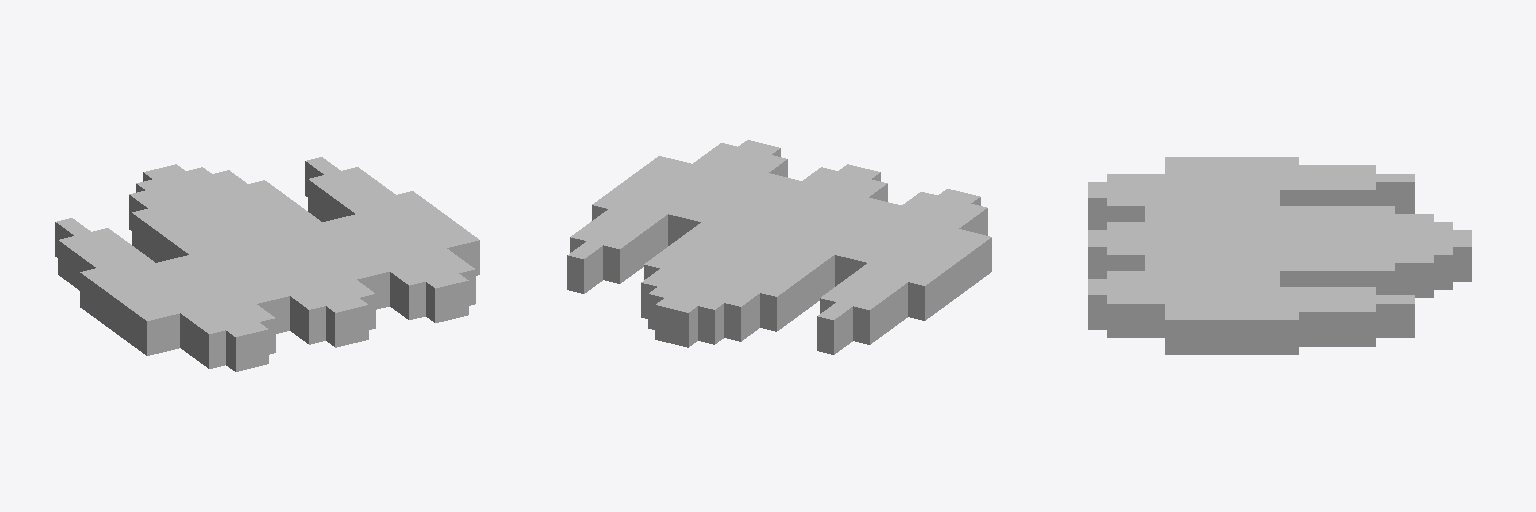
The model's file is enemy_1.obj.
The picture shows the model from 3 angles: view 1: azimuth 30°, elevation 25°; view 2: azimuth 150°, elevation 25°; view 3: azimuth 270°, elevation 25°; orthographic projection.
Visible parts, largest first — view 1: object 1; view 2: object 1; view 3: object 1.
Boxes of the visible parts, <box> form: object 1: <box>55,157,479,371</box>; object 1: <box>567,140,991,354</box>; object 1: <box>1088,157,1471,354</box>.
Size of the model in its own units: 2 by 0.2 by 2.